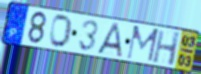3: (78, 19, 100, 52)
8: (26, 10, 49, 46)
A: (96, 22, 123, 58)
H: (151, 29, 182, 68)
M: (125, 25, 161, 64)
O: (48, 13, 75, 49)
